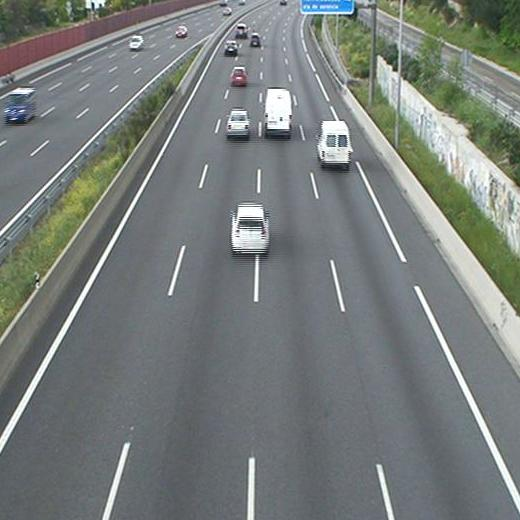car: (231, 203, 271, 257), (226, 108, 251, 141), (230, 67, 247, 87), (225, 40, 238, 57)
van: (316, 120, 352, 171), (264, 87, 293, 139)
